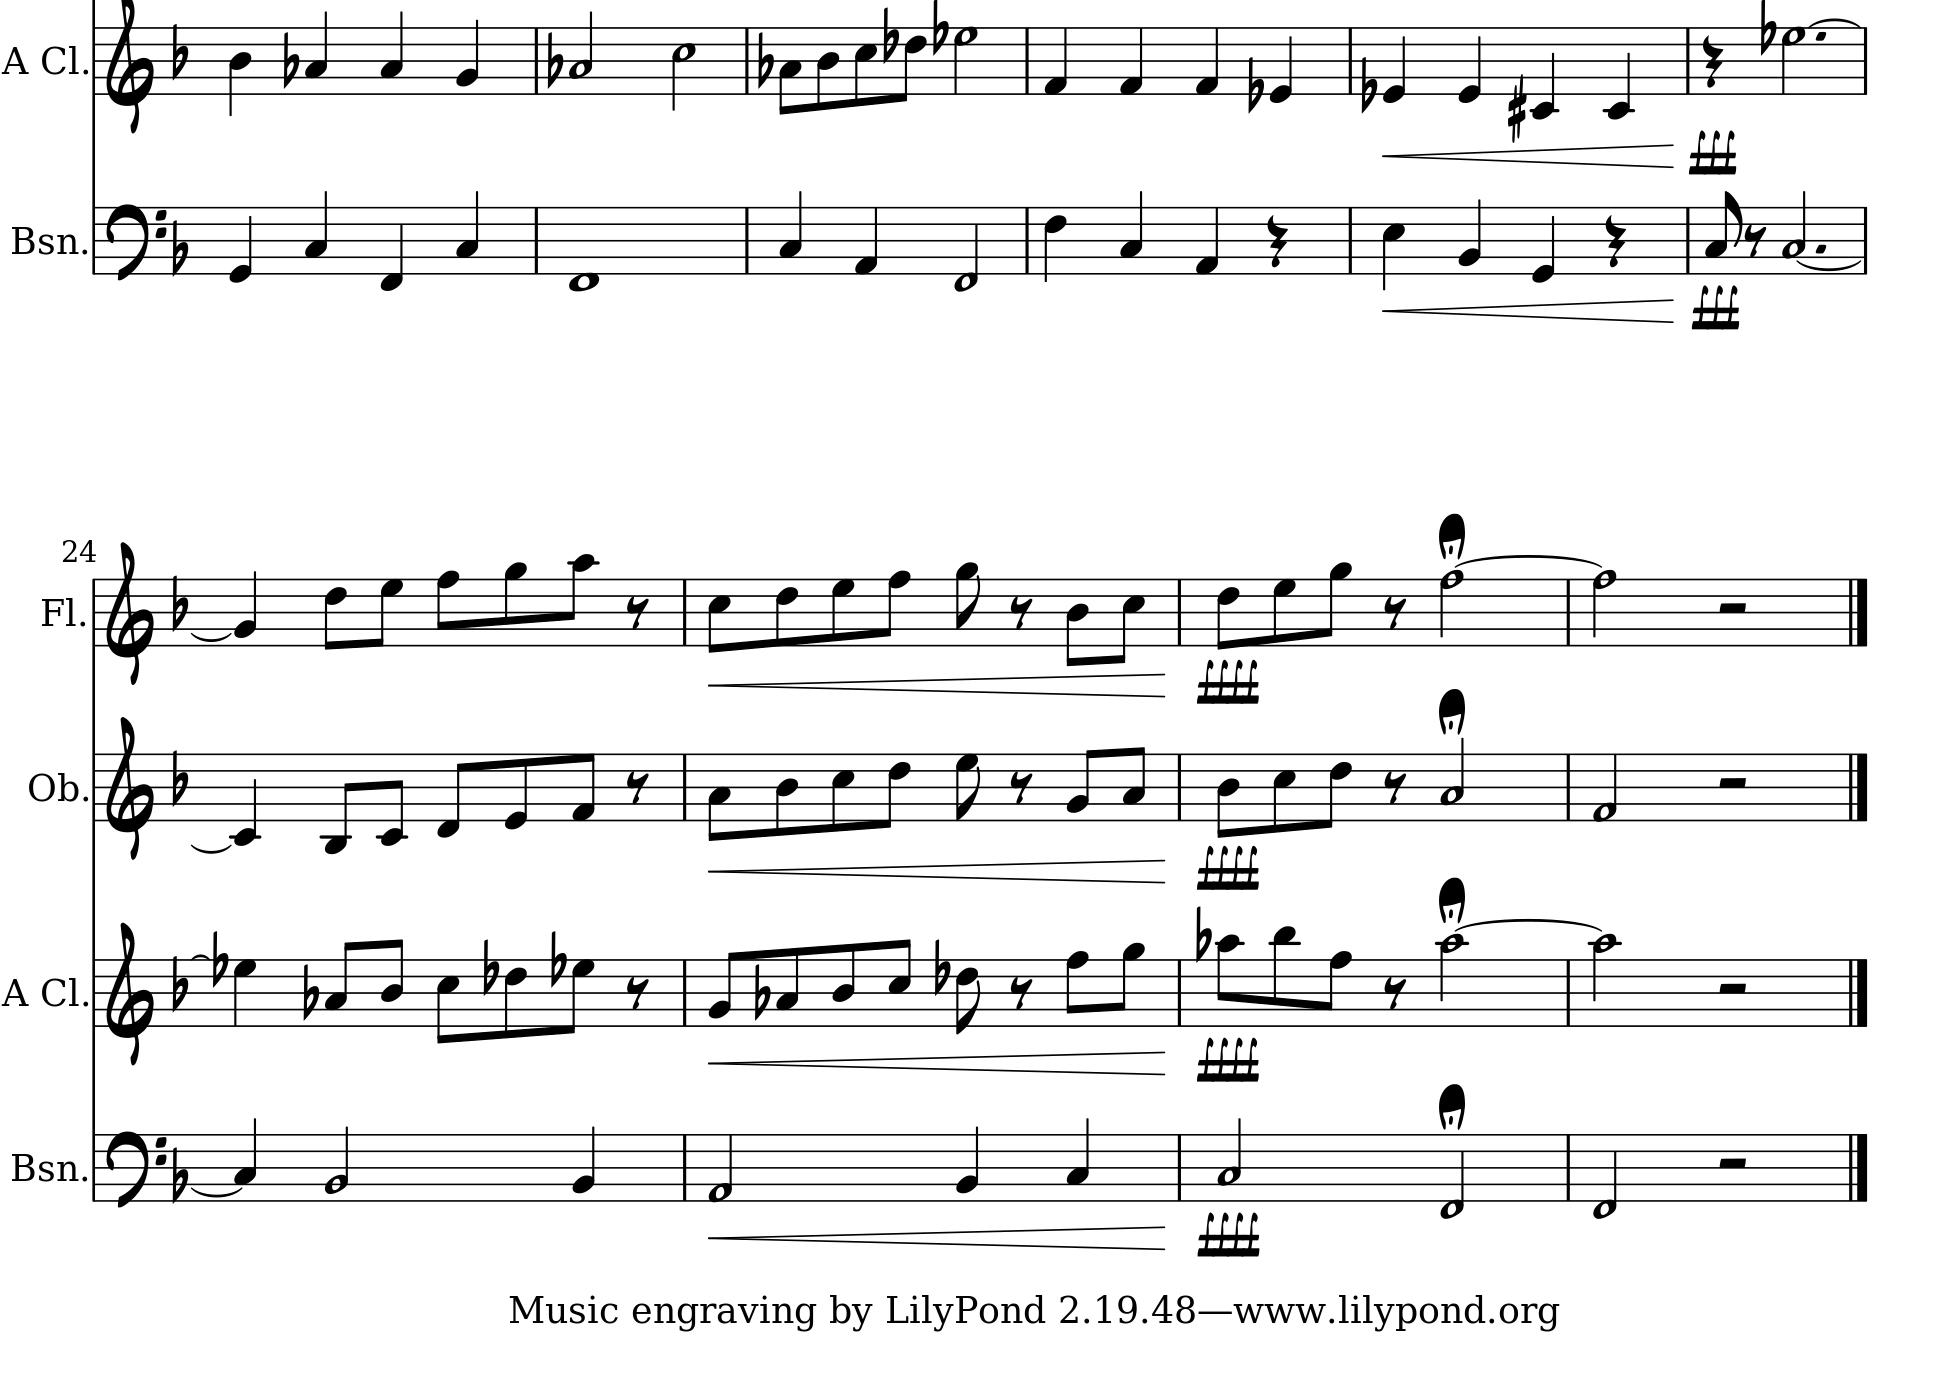1_-1: (567, 204, 601, 294)
2: (60, 537, 78, 562)
2_-1: (1591, 1131, 1620, 1219), (952, 204, 979, 292), (1440, 1131, 1465, 1219)
2_1: (1591, 751, 1620, 823), (706, 1132, 735, 1203)
2_10: (1590, 931, 1620, 1030), (1437, 931, 1467, 1029)
2_2: (322, 1123, 351, 1201)
2_3: (1779, 190, 1809, 277), (1215, 1116, 1245, 1203), (567, 10, 595, 94), (1440, 736, 1465, 822)
2_5: (669, 25, 697, 112)
2_7: (1779, 25, 1807, 97), (952, 25, 978, 97)
2_8: (1590, 567, 1617, 649), (1438, 568, 1464, 649)
4: (78, 537, 97, 565)
4_-1: (378, 204, 405, 292)
4_-2: (1603, 25, 1633, 121), (1530, 24, 1558, 120), (231, 751, 259, 847)
4_0: (1455, 25, 1483, 105), (1530, 204, 1557, 285), (226, 205, 253, 285), (1269, 25, 1294, 105), (1383, 25, 1408, 105)
4_1: (852, 205, 880, 277), (1044, 25, 1071, 97), (1119, 25, 1146, 97), (1194, 25, 1221, 97), (1194, 205, 1221, 277)
4_2: (1456, 196, 1483, 276), (571, 1123, 598, 1203), (955, 1123, 982, 1203), (454, 16, 480, 96), (234, 568, 258, 648)
4_3: (1065, 1114, 1092, 1201), (1119, 189, 1146, 274), (304, 9, 330, 94), (379, 9, 405, 94), (303, 189, 328, 274), (454, 189, 480, 274), (232, 1116, 258, 1201), (778, 190, 802, 274)
4_4: (226, 25, 252, 117)
4_5: (1380, 205, 1407, 292)
4_6: (1042, 205, 1068, 283)
4_7: (232, 957, 258, 1027)
8_-1: (433, 751, 468, 838)
8_-2: (376, 751, 408, 847)
8_-3: (319, 751, 355, 855)
8_0: (502, 751, 529, 831)
8_1: (568, 751, 598, 823)
8_10: (559, 553, 595, 648), (1213, 933, 1243, 1027)
8_11: (1270, 922, 1299, 1029)
8_2: (706, 949, 739, 1027), (1065, 747, 1098, 822)
8_3: (1704, 189, 1743, 276), (324, 940, 357, 1027), (706, 751, 733, 841), (777, 25, 802, 117), (775, 945, 801, 1027), (1122, 745, 1146, 822)
8_4: (1215, 751, 1242, 838), (829, 940, 856, 1027), (772, 751, 799, 837), (1065, 577, 1090, 667), (379, 937, 405, 1027), (814, 25, 840, 112)
8_5: (1113, 577, 1146, 666), (433, 957, 460, 1045), (886, 937, 912, 1027), (852, 25, 877, 108), (829, 751, 855, 832), (706, 576, 732, 655), (1272, 751, 1296, 834)
8_6: (877, 751, 912, 829), (1320, 751, 1353, 829), (895, 27, 928, 103), (954, 957, 982, 1036), (502, 955, 528, 1041), (1215, 576, 1242, 652), (322, 576, 348, 652), (774, 576, 799, 649)
8_7: (561, 957, 595, 1035), (370, 576, 403, 648), (954, 751, 982, 823), (1272, 576, 1297, 648), (829, 576, 855, 646)
8_8: (877, 568, 910, 648), (1320, 949, 1353, 1027), (433, 568, 460, 649), (1065, 949, 1090, 1029)
8_9: (1320, 561, 1353, 648), (1113, 942, 1146, 1027), (952, 562, 981, 649), (502, 559, 526, 648)
Bsn: (10, 1147, 78, 1186), (10, 222, 79, 259)
Cl: (40, 40, 79, 79), (40, 973, 79, 1009)
Crescendo_hairpin: (705, 670, 1170, 699), (711, 858, 1168, 886), (708, 1050, 1165, 1078), (709, 1225, 1167, 1252), (1380, 142, 1677, 169), (1380, 298, 1677, 324)
Fclef: (103, 201, 166, 283), (103, 1128, 166, 1210)
Final_barline: (1845, 577, 1872, 646), (1845, 751, 1872, 820), (1845, 1132, 1872, 1201), (1845, 958, 1872, 1026)
Fl: (37, 594, 78, 631)
Flat: (169, 217, 192, 279), (168, 21, 190, 81), (168, 573, 190, 633), (169, 747, 190, 808), (169, 952, 190, 1012), (169, 1144, 190, 1204), (300, 960, 319, 1021), (754, 30, 774, 90), (1245, 55, 1264, 115), (751, 961, 771, 1021), (544, 30, 564, 88), (1359, 54, 1377, 115), (280, 30, 298, 90), (208, 928, 226, 988), (481, 937, 499, 997), (547, 928, 565, 988), (1194, 903, 1212, 963), (931, 937, 949, 996), (880, 4, 898, 61), (1758, 1, 1776, 58), (930, 1, 946, 57)
Gclef: (103, 919, 156, 1066), (105, 540, 156, 685), (105, 714, 156, 859), (105, 1, 156, 136)
Ob: (28, 768, 79, 805)
Rests2: (1714, 598, 1752, 619), (1714, 979, 1752, 1000), (1716, 1153, 1752, 1174), (1714, 774, 1752, 793)
Rests4: (1602, 211, 1629, 270), (1264, 211, 1290, 270), (1701, 33, 1725, 90)
Rests8: (1008, 975, 1035, 1011), (1008, 595, 1035, 630), (1008, 769, 1035, 804), (1743, 222, 1768, 258), (624, 594, 649, 630), (1383, 769, 1408, 805), (624, 769, 649, 804), (624, 975, 649, 1009), (1383, 975, 1407, 1011), (1383, 595, 1407, 630)
Sharp: (1506, 73, 1528, 142)
Single_barline: (1857, 27, 1875, 93), (1560, 1134, 1578, 1200), (1560, 579, 1578, 643), (1560, 754, 1578, 819), (1560, 958, 1578, 1023), (87, 25, 103, 94), (87, 753, 103, 822), (738, 27, 754, 94), (1342, 205, 1359, 273), (1342, 27, 1359, 93), (87, 207, 103, 273), (528, 207, 544, 273), (738, 207, 754, 273), (676, 577, 693, 643), (676, 958, 693, 1024), (676, 1134, 693, 1200), (528, 28, 544, 93), (1680, 28, 1696, 93), (676, 754, 693, 819), (87, 577, 102, 646), (87, 958, 102, 1027), (1020, 27, 1035, 93), (1020, 207, 1035, 273), (1858, 207, 1873, 273), (87, 1134, 102, 1200), (1173, 754, 1188, 819), (1173, 579, 1188, 642), (1173, 960, 1188, 1023), (1681, 207, 1695, 271), (1173, 1135, 1186, 1198)
Slur: (1458, 918, 1603, 934), (1455, 553, 1608, 568), (1809, 16, 1860, 28), (189, 1186, 246, 1197), (1795, 259, 1861, 268), (189, 840, 232, 853), (189, 631, 232, 642), (189, 952, 211, 960)
dot: (1812, 28, 1830, 43), (1813, 240, 1828, 255)
fff: (1689, 280, 1741, 331), (1686, 127, 1738, 175)
ffff: (1194, 655, 1261, 706), (1194, 841, 1261, 892), (1194, 1207, 1261, 1257), (1192, 1033, 1260, 1081)
